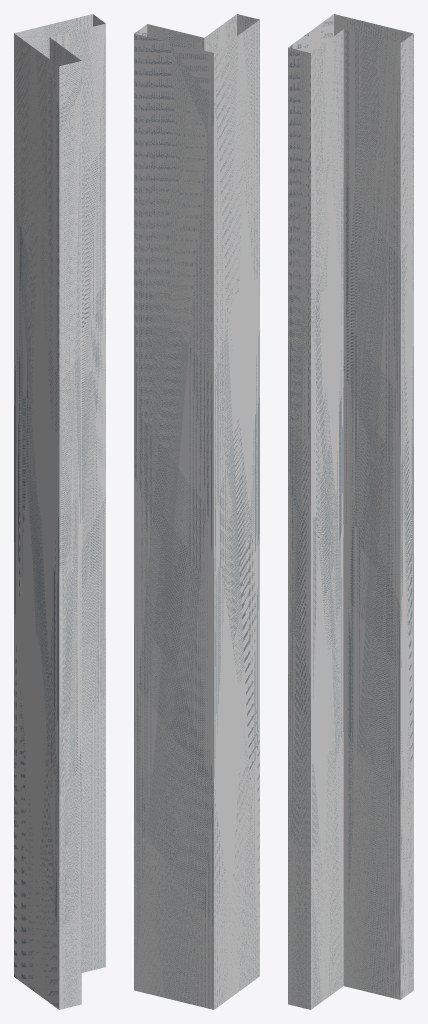
File: PW_CornerFixElem_ds_T3_035x035x010x400.dae
The picture shows the model from 3 angles, left to right: view 1: azimuth 30°, elevation 25°; view 2: azimuth 150°, elevation 25°; view 3: azimuth 330°, elevation 25°; orthographic projection.
Visible parts, largest first — view 1: group_0; view 2: group_0; view 3: group_0.
Part boxes in pixels (x1,y1,x2,y2): group_0: (14, 14, 105, 1009); group_0: (134, 14, 259, 1009); group_0: (288, 14, 413, 1009).
Size of the model in its own units: 13.78 by 13.67 by 157.
